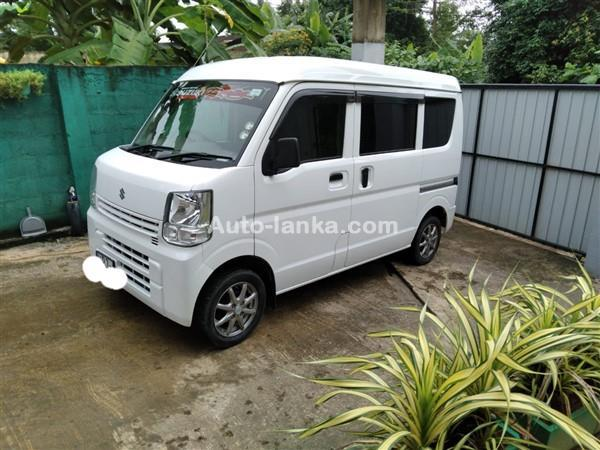van: (88, 56, 465, 347)
